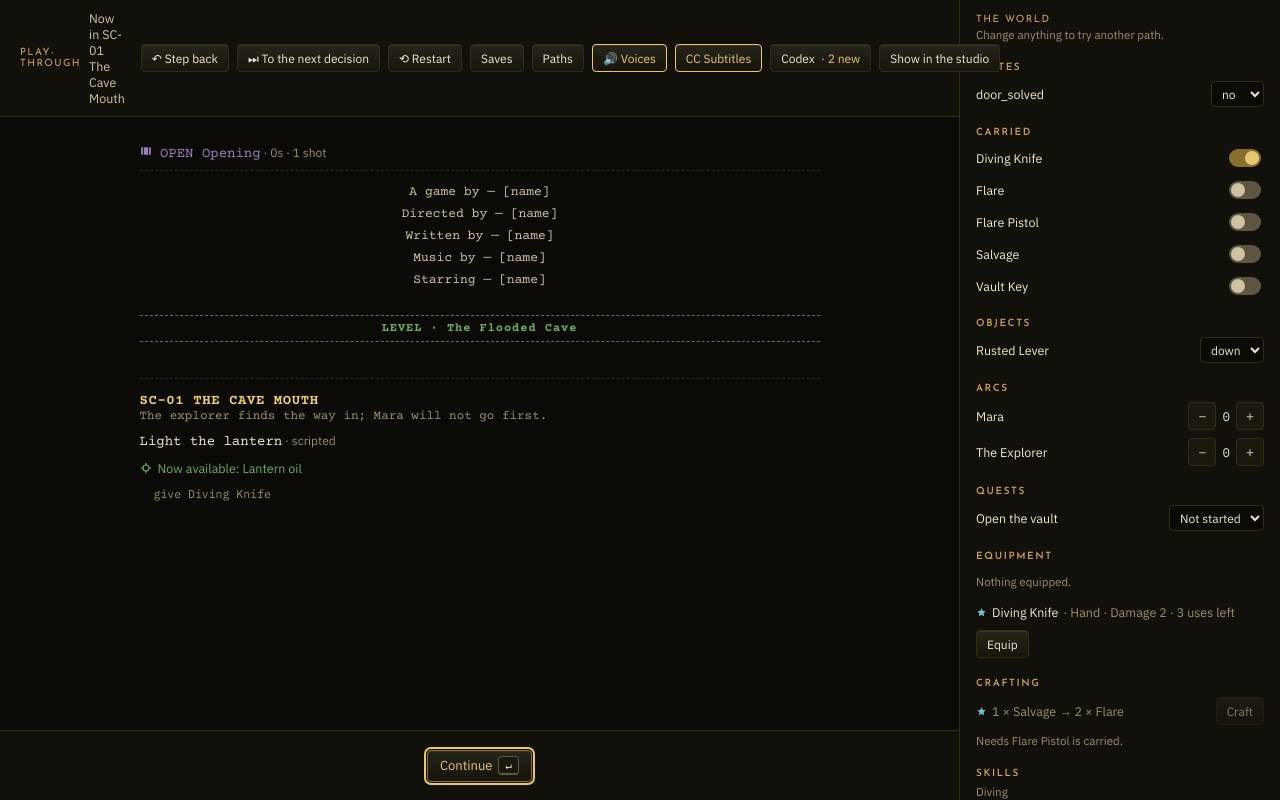
it: equipment in the play-through › equips the knife from the cave mouth, uses it until it breaks
Expected: the text "Nothing equipped." is shown, [976,574,1071,588]
Click the button with aria-label "Equip Diving Knife".
click(1002, 644)  # box [976,630,1029,658]
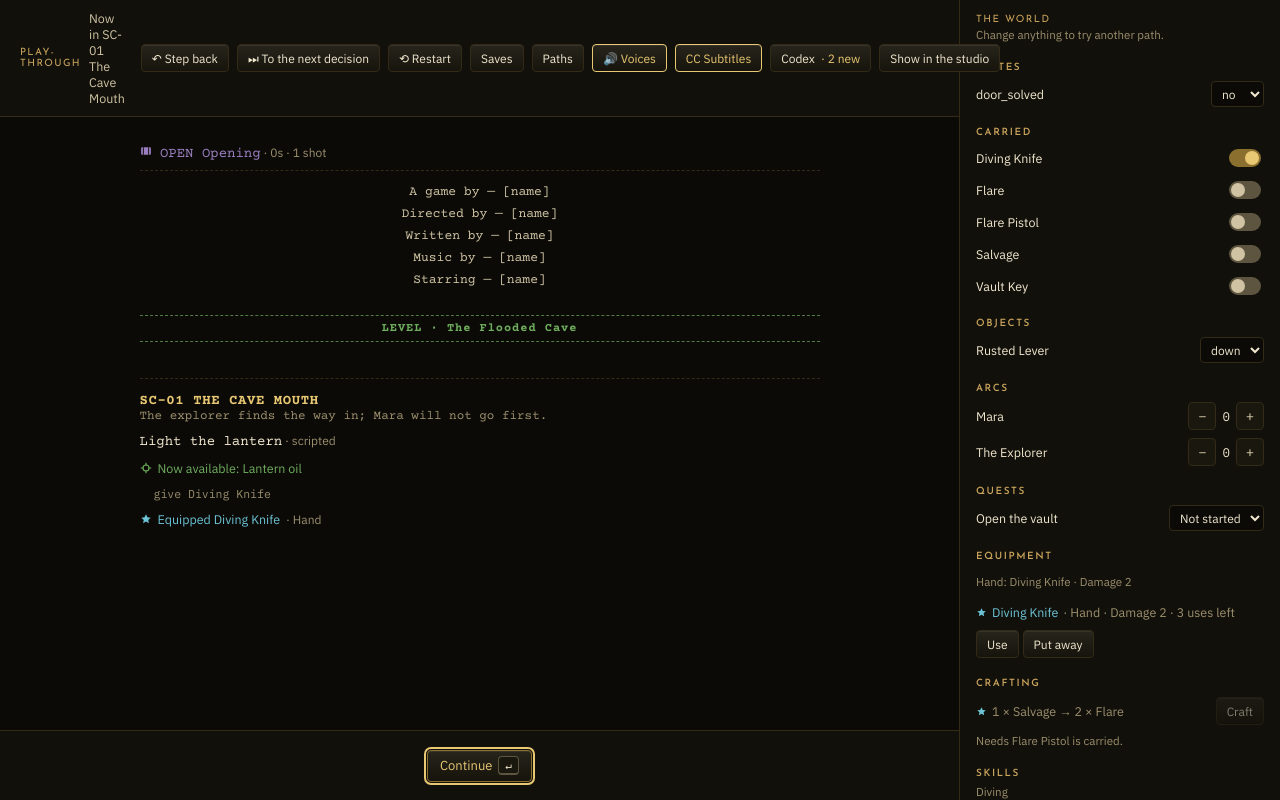
Expected: the text "Hand: Diving Knife · Damage 2" is shown, [976,574,1132,588]
Click the button with aria-label "Use Diving Knife".
click(997, 644)  # box [976,630,1019,658]
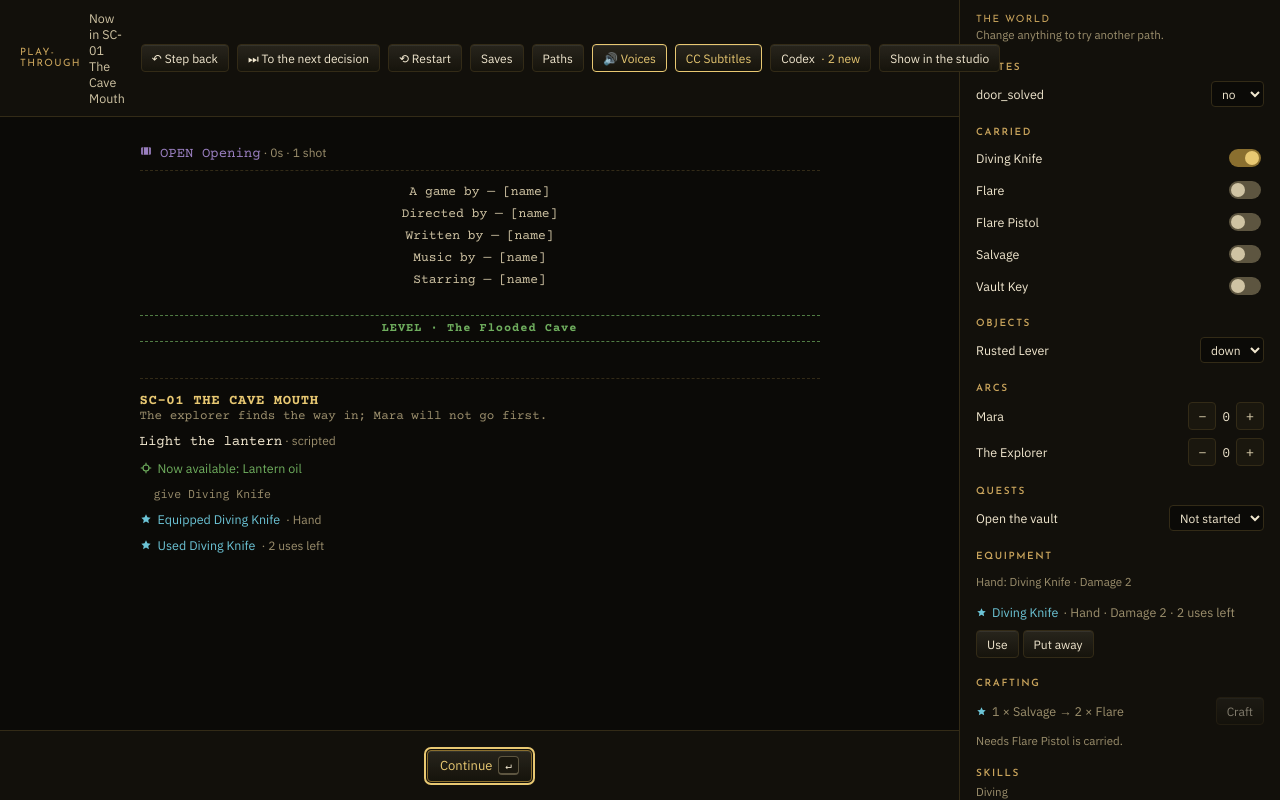
Click the button with aria-label "Use Diving Knife".
click(997, 644)  # box [976,630,1019,658]
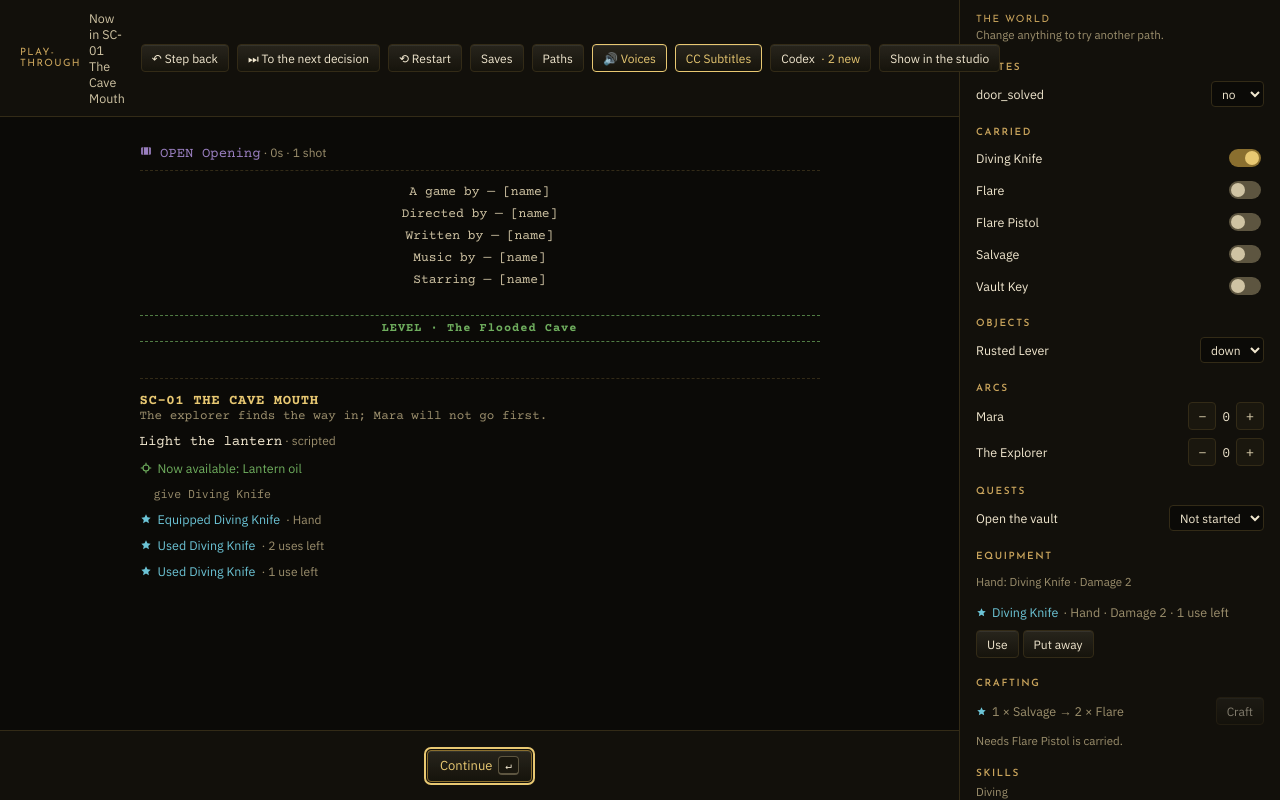
Click the button with aria-label "Use Diving Knife".
click(997, 644)  # box [976,630,1019,658]
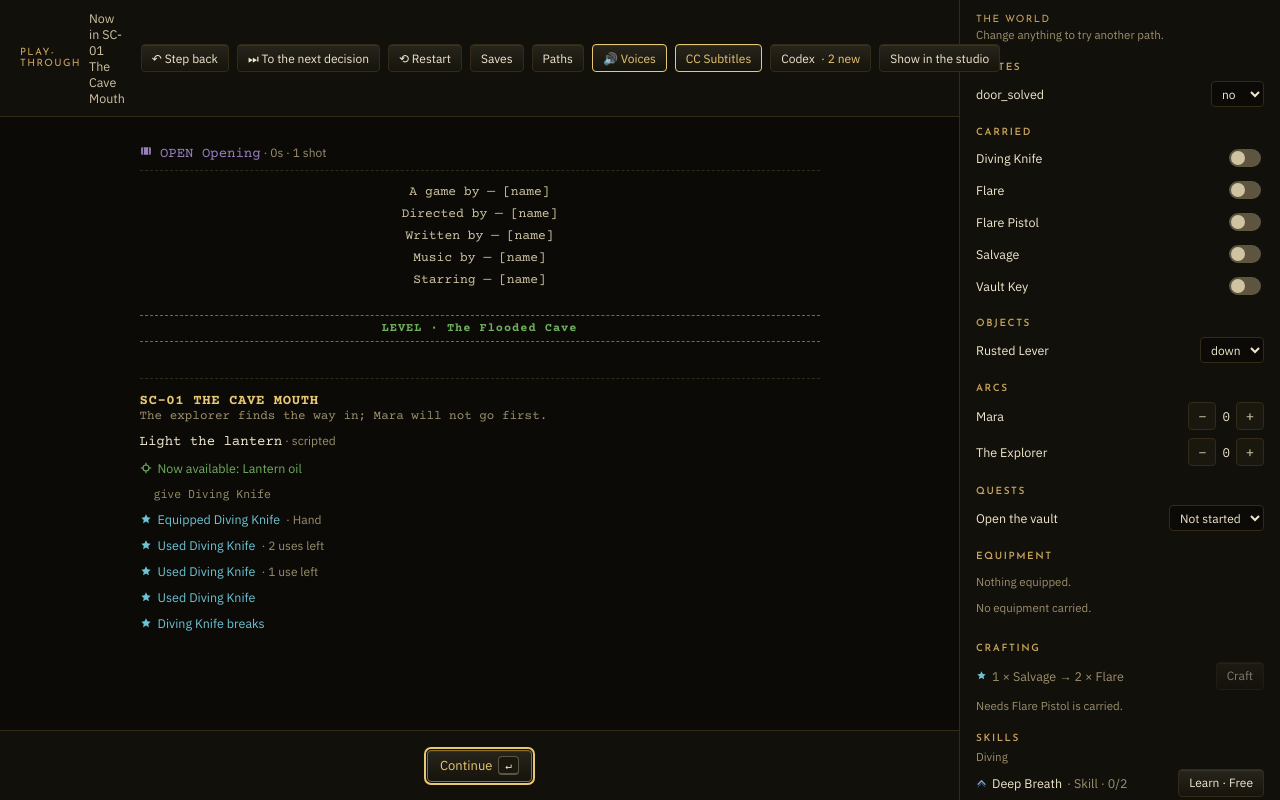
Expected: the text "No equipment carried." is shown, [976,600,1091,615]
